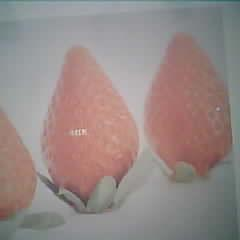straw-ripe: (44, 47, 140, 201), (144, 34, 231, 174)
